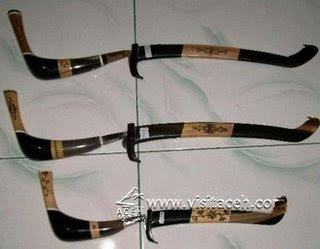espada: (2, 8, 320, 84), (28, 167, 292, 243), (1, 90, 320, 152)
